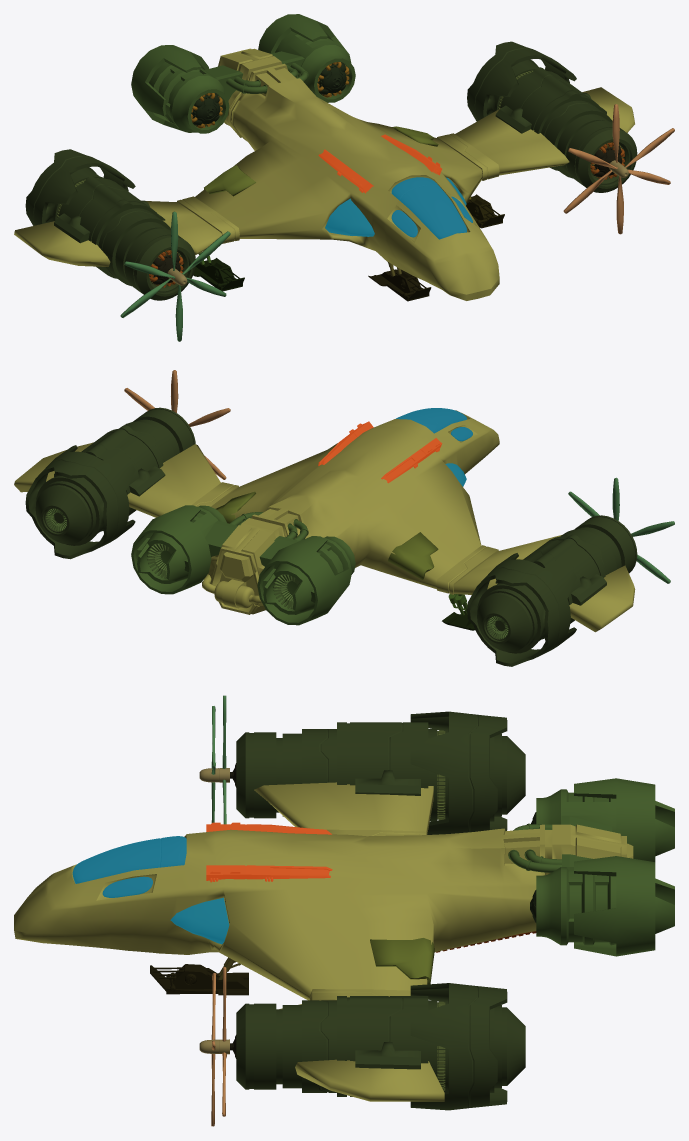
The model's file is ship.glb.
3 renders of one model, top to bottom at view 1: azimuth 30°, elevation 25°; view 2: azimuth 150°, elevation 25°; view 3: azimuth 270°, elevation 25°, orthographic. The views are drawn at different scales.
Visible parts, largest first — view 1: BODY, SPIN0, SPIN1; view 2: BODY, SPIN1, SPIN0; view 3: BODY, SPIN0, SPIN1.
Boxes of the visible parts, x1=… form: BODY: x1=14, y1=14, x2=637, y2=301; SPIN0: x1=563, y1=104, x2=674, y2=234; SPIN1: x1=120, y1=211, x2=230, y2=341; BODY: x1=14, y1=407, x2=637, y2=666; SPIN1: x1=568, y1=477, x2=674, y2=583; SPIN0: x1=124, y1=370, x2=230, y2=479; BODY: x1=14, y1=711, x2=674, y2=1110; SPIN0: x1=211, y1=967, x2=226, y2=1126; SPIN1: x1=211, y1=695, x2=226, y2=824.
Bounding box in the file's own units: 1 × 0.2163 × 0.7685.
